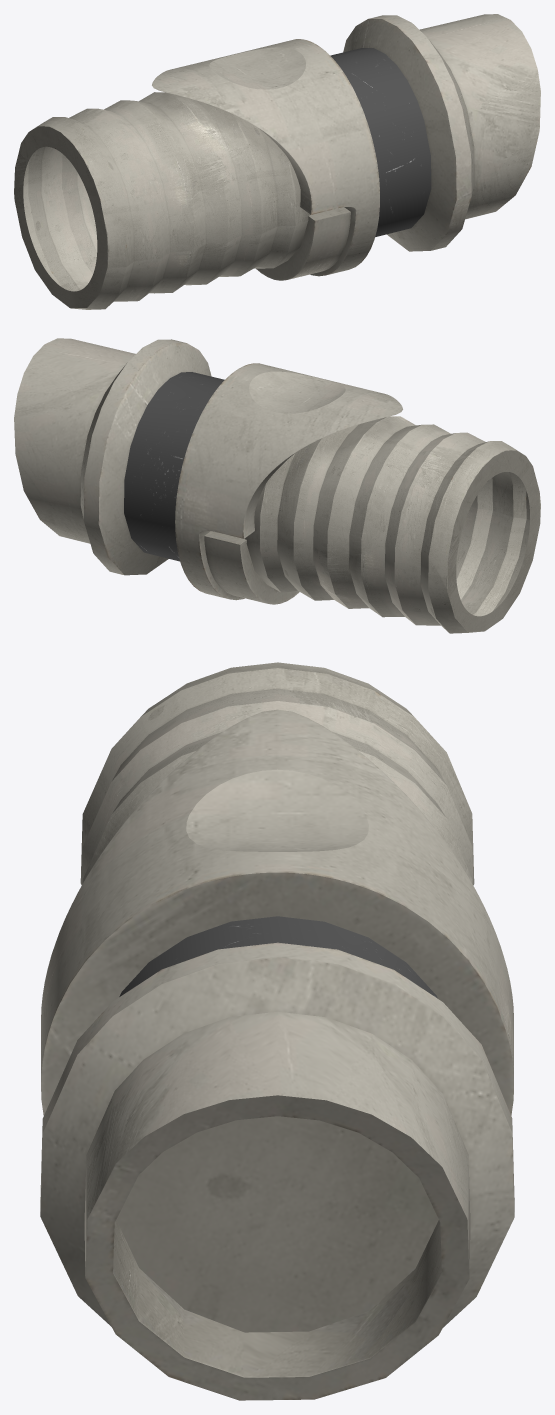
The model's file is guard_11_c_d.glb.
The picture shows the model from 3 angles, top to bottom: view 1: azimuth 30°, elevation 25°; view 2: azimuth 150°, elevation 25°; view 3: azimuth 270°, elevation 25°; orthographic projection. The views are drawn at different scales.
Visible parts, largest first — view 1: guard_11_c_d_lod0; view 2: guard_11_c_d_lod0; view 3: guard_11_c_d_lod0.
Boxes of the visible parts, left/top/right/bottom form: guard_11_c_d_lod0: left=14, top=14, right=540, bottom=309; guard_11_c_d_lod0: left=14, top=338, right=540, bottom=633; guard_11_c_d_lod0: left=40, top=662, right=514, bottom=1400.
Size of what is drawn, in the model's own units: 0.0761 by 0.035 by 0.0348.
Materials: 1 (1 with a texture image).
